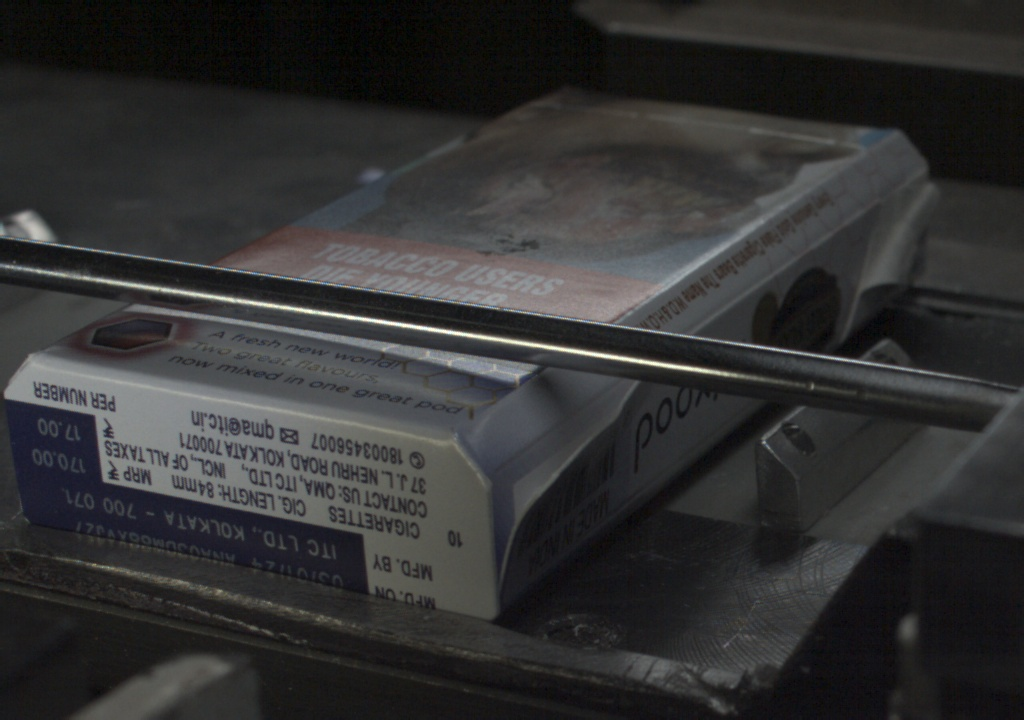g_bottom: (1, 360, 486, 625)
g_label: (13, 480, 364, 591)
g_lmiter: (774, 203, 865, 272), (688, 272, 774, 333)
ng_lmiter: (493, 426, 574, 550), (574, 379, 635, 445)
ng_miter: (864, 168, 945, 296)
price: (12, 410, 97, 481)
